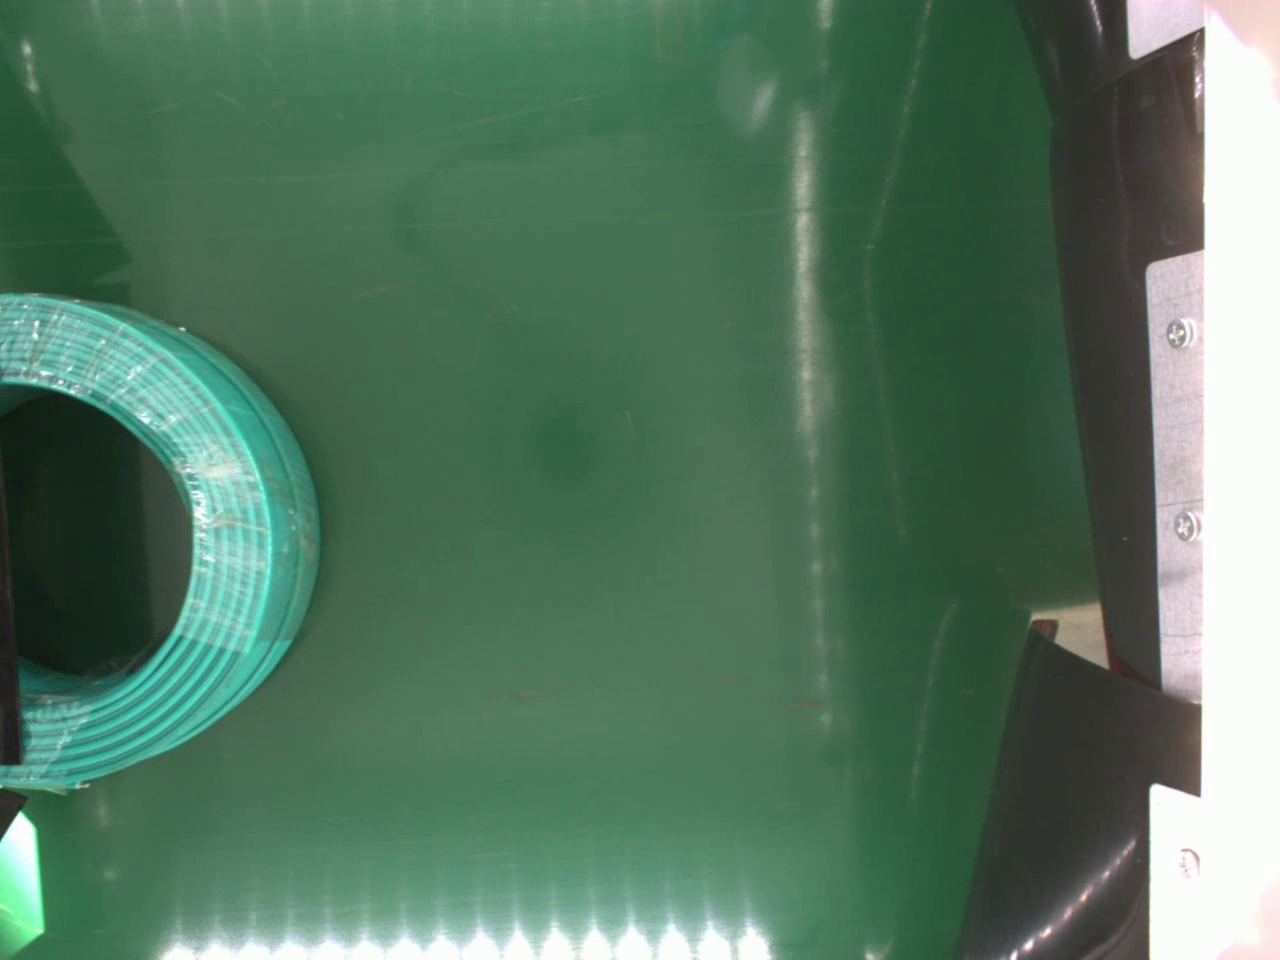green: (0, 291, 323, 785)
